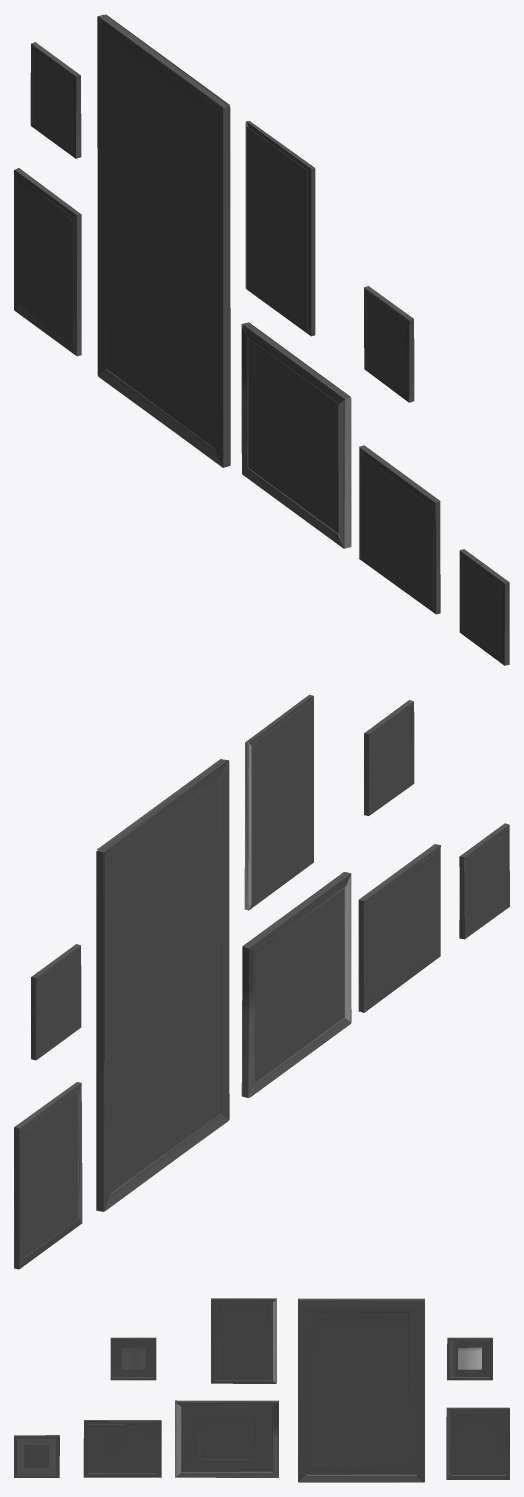
Rendered from WallPainting0001.obj.
3 renders of one model, top to bottom at view 1: azimuth 30°, elevation 25°; view 2: azimuth 150°, elevation 25°; view 3: azimuth 270°, elevation 25°, orthographic. The views are drawn at different scales.
Parts seen in each view (by area): view 1: WallPainting0001; view 2: WallPainting0001; view 3: WallPainting0001.
Boxes of the visible parts, x1=… form: WallPainting0001: x1=14, y1=14, x2=509, y2=665; WallPainting0001: x1=14, y1=694, x2=509, y2=1269; WallPainting0001: x1=14, y1=1298, x2=509, y2=1482.
Bounding box in the file's own units: 0.022 × 0.91 × 2.24.
1 material, 1 textured.
